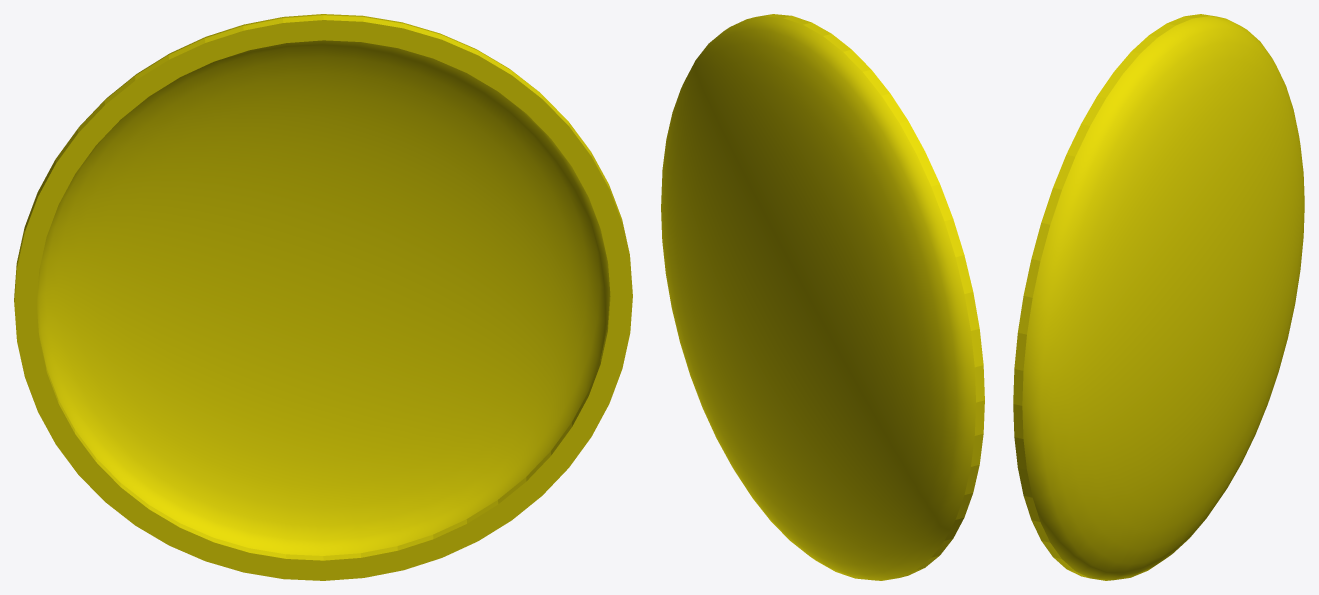
Rendered from yellow.fbx.
3 renders of one model, left to right at view 1: azimuth 30°, elevation 25°; view 2: azimuth 150°, elevation 25°; view 3: azimuth 270°, elevation 25°, orthographic. The views are drawn at different scales.
Visible parts, largest first — view 1: Light; view 2: Light; view 3: Light.
Part boxes in pixels (x1=…): Light: x1=14, y1=14, x2=632, y2=580; Light: x1=661, y1=14, x2=984, y2=580; Light: x1=1013, y1=14, x2=1304, y2=580.
Bounding box in the file's own units: 15.32 × 17.15 × 8.67.
